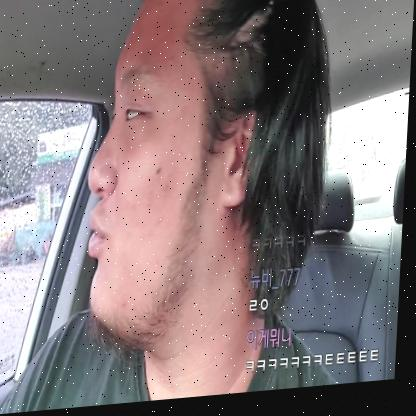streamer: (0, 0, 373, 416)
